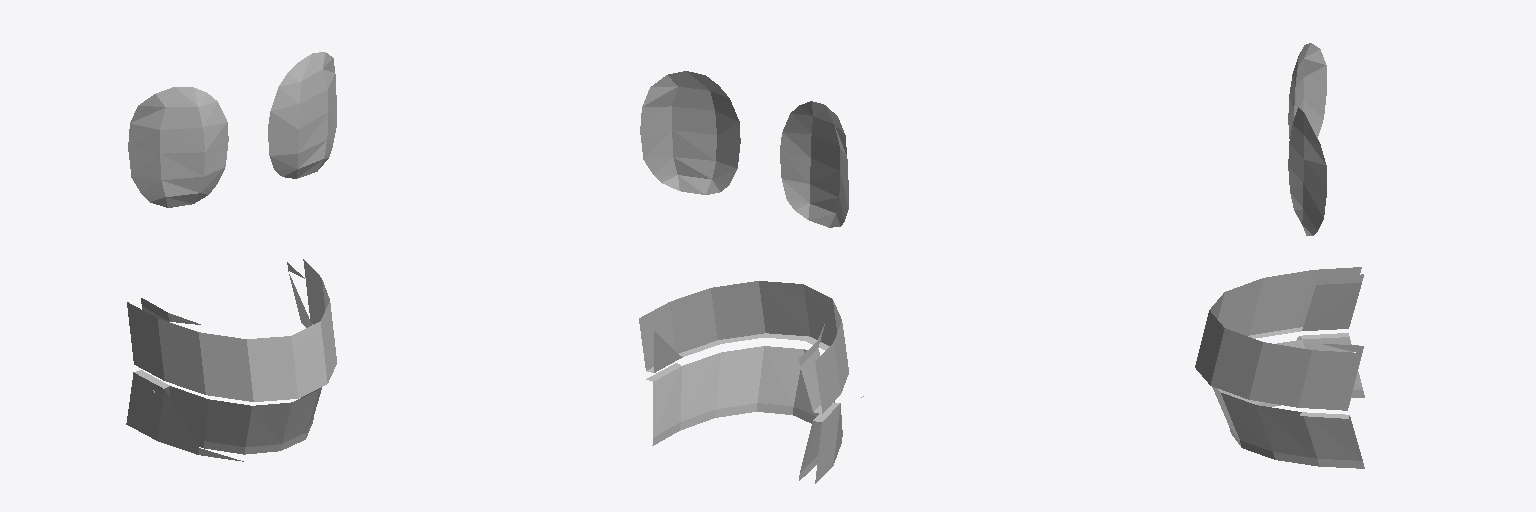
The model's file is teeth eye bron.obj.
3 renders of one model, left to right at view 1: azimuth 30°, elevation 25°; view 2: azimuth 150°, elevation 25°; view 3: azimuth 270°, elevation 25°, orthographic.
Visible parts, largest first — view 1: basketballer_angry_head.002; view 2: basketballer_angry_head.002; view 3: basketballer_angry_head.002.
Part boxes in pixels (x1,y1,x2,y2): basketballer_angry_head.002: (126,52,336,461); basketballer_angry_head.002: (639,71,863,483); basketballer_angry_head.002: (1195,43,1364,468).
Size of the model in its own units: 0.1735 by 0.2818 by 0.1226.